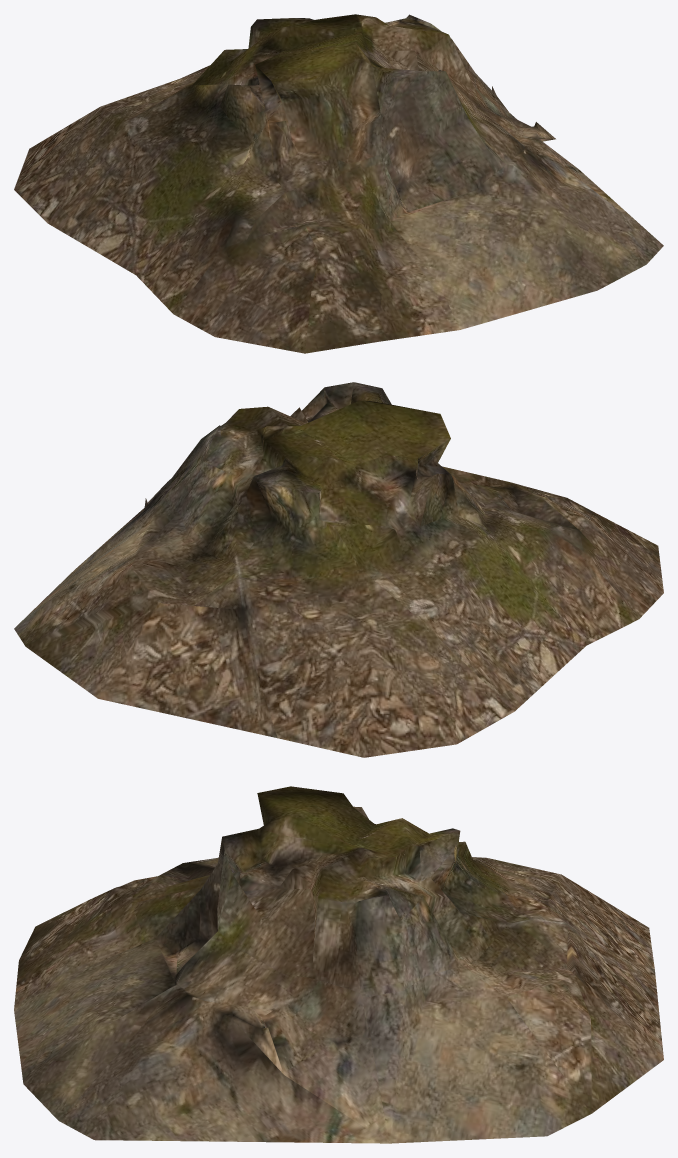
Rendered from tree_stump_01.glb.
3 renders of one model, top to bottom at view 1: azimuth 30°, elevation 25°; view 2: azimuth 150°, elevation 25°; view 3: azimuth 270°, elevation 25°, orthographic. The views are drawn at different scales.
Visible parts, largest first — view 1: tree_stump_01; view 2: tree_stump_01; view 3: tree_stump_01.
Part boxes in pixels (left/top/right/bottom): tree_stump_01: left=14, top=14, right=663, bottom=353; tree_stump_01: left=14, top=382, right=663, bottom=757; tree_stump_01: left=14, top=786, right=663, bottom=1143.
Size of the model in its own units: 1.42 by 0.5624 by 1.59.
Materials: 1 (1 with a texture image).
